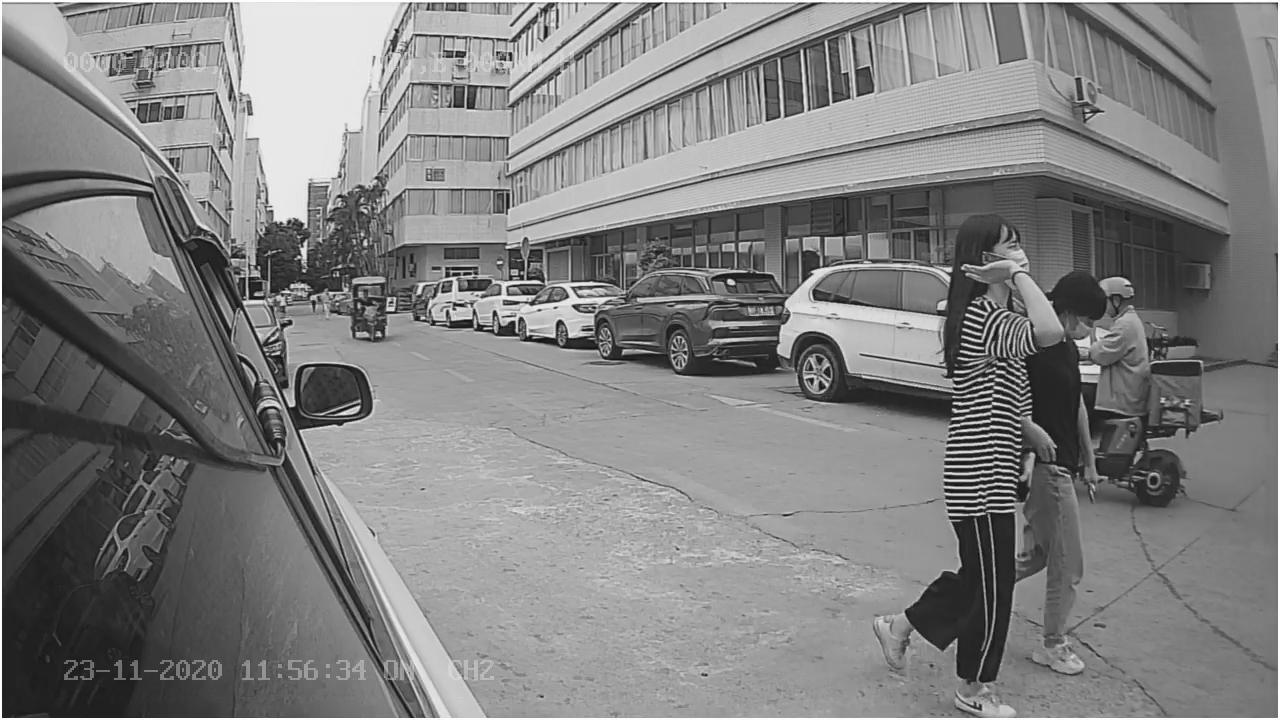person: (899, 213, 1032, 720)
